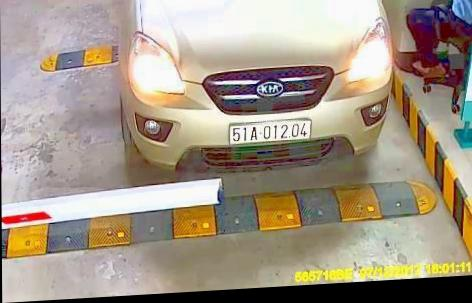License_Plate: (228, 115, 316, 150)
